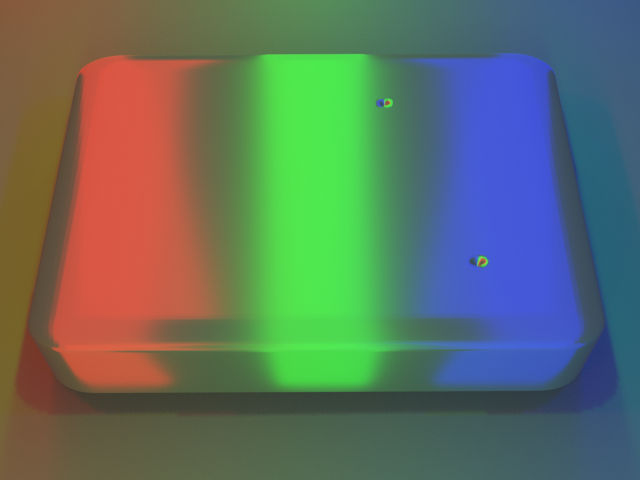dent: (474, 243, 518, 279), (372, 73, 409, 109)
